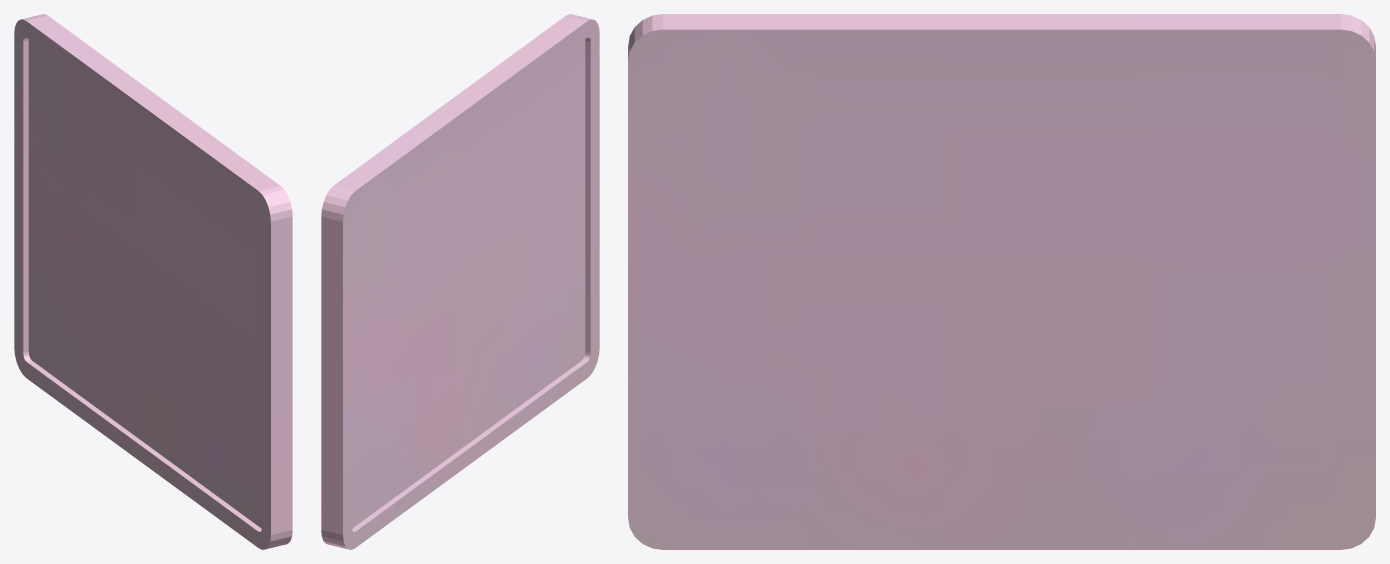
Rendered from tablet.glb.
3 renders of one model, left to right at view 1: azimuth 30°, elevation 25°; view 2: azimuth 150°, elevation 25°; view 3: azimuth 270°, elevation 25°, orthographic. The views are drawn at different scales.
Visible parts, largest first — view 1: tablet_interact.002, tablet_interact; view 2: tablet_interact.002, tablet_interact; view 3: tablet_interact.
Part boxes in pixels (x1,y1,x2,y2): tablet_interact.002: (28, 39, 261, 528); tablet_interact: (14, 14, 292, 549); tablet_interact.002: (352, 39, 585, 528); tablet_interact: (321, 14, 599, 549); tablet_interact: (628, 14, 1375, 549).
Bounding box in the file's own units: 0.0251 × 0.3898 × 0.5077.
Materials: 1 (1 with a texture image).
